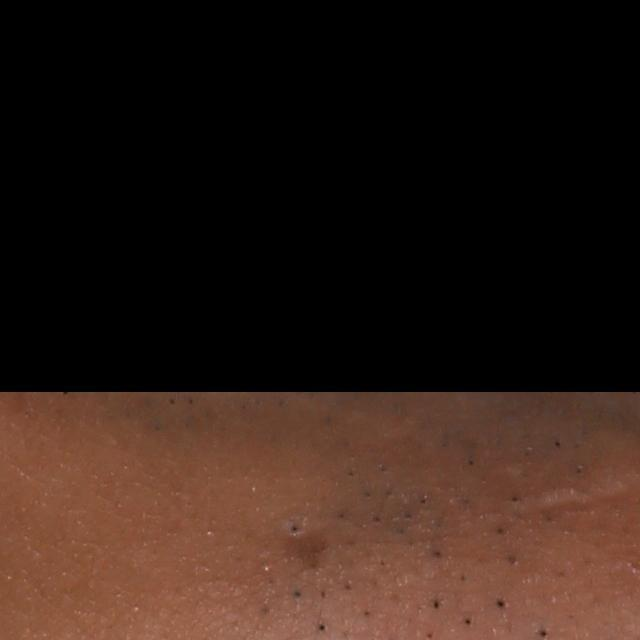hypertrophic_scar: (521, 476, 634, 523)
